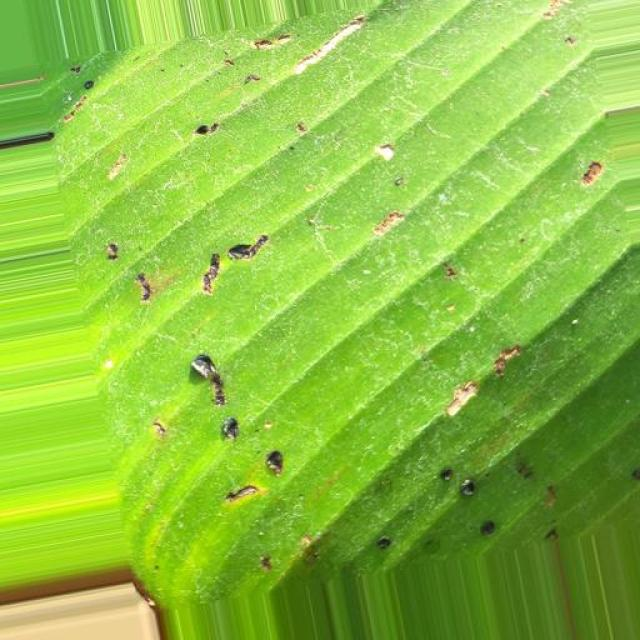Black_rot: (87, 12, 640, 598)
